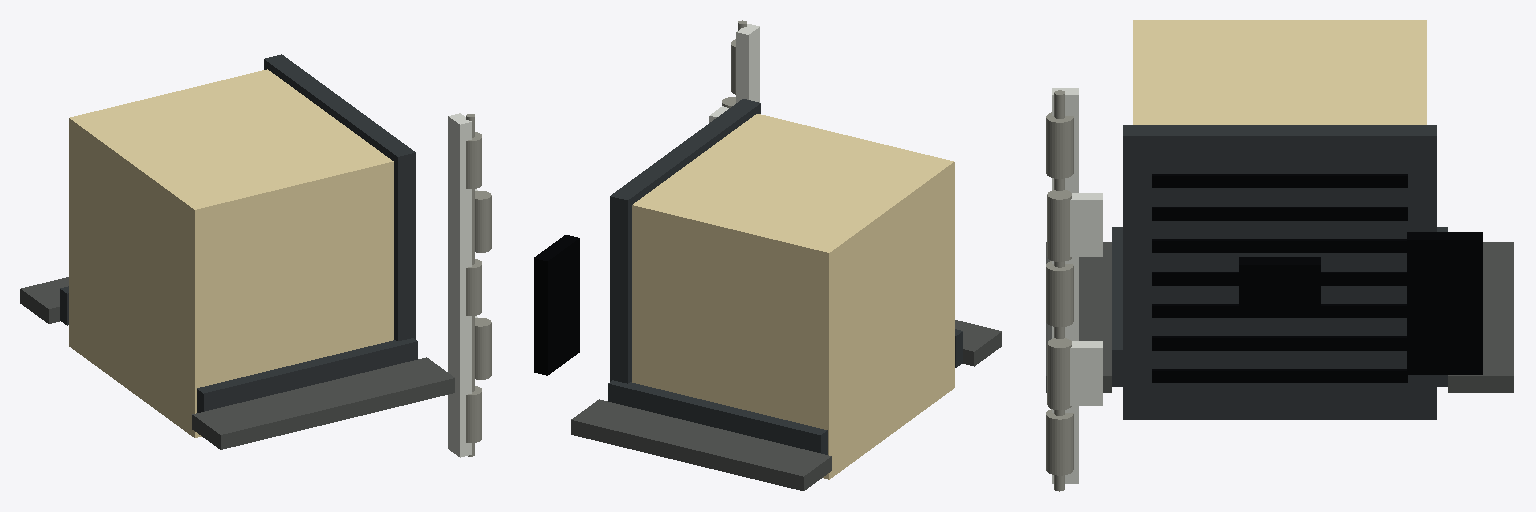
robot.urdf — desktop_cube_air_purifier:
<robot name="desktop_cube_air_purifier">
  <material name="warm_white_plastic">
    <color rgba="0.88 0.89 0.86 1" />
    </material>
  <material name="charcoal_shadow">
    <color rgba="0.05 0.055 0.06 1" />
    </material>
  <material name="pleated_filter_media">
    <color rgba="0.92 0.86 0.68 1" />
    </material>
  <material name="soft_gray_gasket">
    <color rgba="0.25 0.27 0.28 1" />
    </material>
  <material name="matte_gray_rails">
    <color rgba="0.36 0.37 0.36 1" />
    </material>
  <material name="brushed_hinge_pin">
    <color rgba="0.62 0.62 0.58 1" />
    </material>
  <link name="housing">
    <visual name="housing_shell">
      <geometry>
        <mesh filename="assets/meshes/hollow_cube_housing.obj" />
        </geometry>
      <material name="warm_white_plastic">
        <color rgba="0.88 0.89 0.86 1" />
        </material>
      </visual>
    <visual name="front_grille">
      <origin xyz="0 -0.164 0.195" rpy="1.5708 0 0" />
      <geometry>
        <mesh filename="assets/meshes/front_louvered_grille.obj" />
        </geometry>
      <material name="warm_white_plastic">
        <color rgba="0.88 0.89 0.86 1" />
        </material>
      </visual>
    <visual name="guide_rail_0">
      <origin xyz="0.04 -0.146 0.091" rpy="0 0 0" />
      <geometry>
        <box size="0.23 0.048 0.014" />
        </geometry>
      <material name="matte_gray_rails">
        <color rgba="0.36 0.37 0.36 1" />
        </material>
      </visual>
    <visual name="guide_rail_1">
      <origin xyz="0.04 0.146 0.091" rpy="0 0 0" />
      <geometry>
        <box size="0.23 0.048 0.014" />
        </geometry>
      <material name="matte_gray_rails">
        <color rgba="0.36 0.37 0.36 1" />
        </material>
      </visual>
    <visual name="hinge_knuckle_0">
      <origin xyz="0.176 -0.16 0.055" rpy="0 0 0" />
      <geometry>
        <cylinder radius="0.01" length="0.045" />
        </geometry>
      <material name="brushed_hinge_pin">
        <color rgba="0.62 0.62 0.58 1" />
        </material>
      </visual>
    <visual name="hinge_knuckle_1">
      <origin xyz="0.176 -0.16 0.174" rpy="0 0 0" />
      <geometry>
        <cylinder radius="0.01" length="0.045" />
        </geometry>
      <material name="brushed_hinge_pin">
        <color rgba="0.62 0.62 0.58 1" />
        </material>
      </visual>
    <visual name="hinge_knuckle_2">
      <origin xyz="0.176 -0.16 0.293" rpy="0 0 0" />
      <geometry>
        <cylinder radius="0.01" length="0.045" />
        </geometry>
      <material name="brushed_hinge_pin">
        <color rgba="0.62 0.62 0.58 1" />
        </material>
      </visual>
    <visual name="hinge_leaf">
      <origin xyz="0.168 -0.156 0.176" rpy="0 0 0" />
      <geometry>
        <box size="0.012 0.02 0.312" />
        </geometry>
      <material name="warm_white_plastic">
        <color rgba="0.88 0.89 0.86 1" />
        </material>
      </visual>
    <visual name="hinge_pin">
      <origin xyz="0.176 -0.16 0.176" rpy="0 0 0" />
      <geometry>
        <cylinder radius="0.004" length="0.318" />
        </geometry>
      <material name="brushed_hinge_pin">
        <color rgba="0.62 0.62 0.58 1" />
        </material>
      </visual>
    </link>
  <link name="filter_door">
    <visual name="door_panel">
      <origin xyz="0.011 0.15 0.146" rpy="0 1.5708 0" />
      <geometry>
        <mesh filename="assets/meshes/side_filter_door_panel.obj" />
        </geometry>
      <material name="warm_white_plastic">
        <color rgba="0.88 0.89 0.86 1" />
        </material>
      </visual>
    <visual name="pull_recess">
      <origin xyz="0.024 0.27 0.146" rpy="0 0 0" />
      <geometry>
        <box size="0.014 0.055 0.108" />
        </geometry>
      <material name="charcoal_shadow">
        <color rgba="0.05 0.055 0.06 1" />
        </material>
      </visual>
    <visual name="door_barrel_0">
      <origin xyz="0.012 -0.01 0.084" rpy="0 0 0" />
      <geometry>
        <cylinder radius="0.009" length="0.05" />
        </geometry>
      <material name="brushed_hinge_pin">
        <color rgba="0.62 0.62 0.58 1" />
        </material>
      </visual>
    <visual name="door_hinge_leaf_0">
      <origin xyz="0.011 0.006 0.084" rpy="0 0 0" />
      <geometry>
        <box size="0.012 0.03 0.046" />
        </geometry>
      <material name="warm_white_plastic">
        <color rgba="0.88 0.89 0.86 1" />
        </material>
      </visual>
    <visual name="door_barrel_1">
      <origin xyz="0.012 -0.01 0.203" rpy="0 0 0" />
      <geometry>
        <cylinder radius="0.009" length="0.05" />
        </geometry>
      <material name="brushed_hinge_pin">
        <color rgba="0.62 0.62 0.58 1" />
        </material>
      </visual>
    <visual name="door_hinge_leaf_1">
      <origin xyz="0.011 0.006 0.203" rpy="0 0 0" />
      <geometry>
        <box size="0.012 0.03 0.046" />
        </geometry>
      <material name="warm_white_plastic">
        <color rgba="0.88 0.89 0.86 1" />
        </material>
      </visual>
    </link>
  <link name="hepa_filter">
    <visual name="filter_media">
      <origin xyz="-0.105 0 0" rpy="0 0 0" />
      <geometry>
        <box size="0.21 0.214 0.214" />
        </geometry>
      <material name="pleated_filter_media">
        <color rgba="0.92 0.86 0.68 1" />
        </material>
      </visual>
    <visual name="front_gasket">
      <origin xyz="-0.006 0 0" rpy="0 0 0" />
      <geometry>
        <box size="0.018 0.228 0.228" />
        </geometry>
      <material name="soft_gray_gasket">
        <color rgba="0.25 0.27 0.28 1" />
        </material>
      </visual>
    <visual name="rail_shoe_0">
      <origin xyz="-0.105 -0.116 -0.074" rpy="0 0 0" />
      <geometry>
        <box size="0.21 0.012 0.03" />
        </geometry>
      <material name="soft_gray_gasket">
        <color rgba="0.25 0.27 0.28 1" />
        </material>
      </visual>
    <visual name="rail_shoe_1">
      <origin xyz="-0.105 0.116 -0.074" rpy="0 0 0" />
      <geometry>
        <box size="0.21 0.012 0.03" />
        </geometry>
      <material name="soft_gray_gasket">
        <color rgba="0.25 0.27 0.28 1" />
        </material>
      </visual>
    <visual name="pleat_edge_0">
      <origin xyz="0.004 0 -0.078" rpy="0 0 0" />
      <geometry>
        <box size="0.004 0.186 0.01" />
        </geometry>
      <material name="charcoal_shadow">
        <color rgba="0.05 0.055 0.06 1" />
        </material>
      </visual>
    <visual name="pleat_edge_1">
      <origin xyz="0.004 0 -0.052" rpy="0 0 0" />
      <geometry>
        <box size="0.004 0.186 0.01" />
        </geometry>
      <material name="charcoal_shadow">
        <color rgba="0.05 0.055 0.06 1" />
        </material>
      </visual>
    <visual name="pleat_edge_2">
      <origin xyz="0.004 0 -0.026" rpy="0 0 0" />
      <geometry>
        <box size="0.004 0.186 0.01" />
        </geometry>
      <material name="charcoal_shadow">
        <color rgba="0.05 0.055 0.06 1" />
        </material>
      </visual>
    <visual name="pleat_edge_3">
      <origin xyz="0.004 0 0" rpy="0 0 0" />
      <geometry>
        <box size="0.004 0.186 0.01" />
        </geometry>
      <material name="charcoal_shadow">
        <color rgba="0.05 0.055 0.06 1" />
        </material>
      </visual>
    <visual name="pleat_edge_4">
      <origin xyz="0.004 0 0.026" rpy="0 0 0" />
      <geometry>
        <box size="0.004 0.186 0.01" />
        </geometry>
      <material name="charcoal_shadow">
        <color rgba="0.05 0.055 0.06 1" />
        </material>
      </visual>
    <visual name="pleat_edge_5">
      <origin xyz="0.004 0 0.052" rpy="0 0 0" />
      <geometry>
        <box size="0.004 0.186 0.01" />
        </geometry>
      <material name="charcoal_shadow">
        <color rgba="0.05 0.055 0.06 1" />
        </material>
      </visual>
    <visual name="pleat_edge_6">
      <origin xyz="0.004 0 0.078" rpy="0 0 0" />
      <geometry>
        <box size="0.004 0.186 0.01" />
        </geometry>
      <material name="charcoal_shadow">
        <color rgba="0.05 0.055 0.06 1" />
        </material>
      </visual>
    <visual name="pull_tab">
      <origin xyz="0.01 0 0" rpy="0 0 0" />
      <geometry>
        <box size="0.014 0.06 0.034" />
        </geometry>
      <material name="charcoal_shadow">
        <color rgba="0.05 0.055 0.06 1" />
        </material>
      </visual>
    </link>
  <joint name="housing_to_filter_door" type="revolute">
    <origin xyz="0.174 -0.15 0.03" rpy="0 0 0" />
    <parent link="housing" />
    <child link="filter_door" />
    <axis xyz="0 0 -1" />
    <limit effort="3" velocity="2" lower="0" upper="1.75" />
    </joint>
  <joint name="housing_to_hepa_filter" type="prismatic">
    <origin xyz="0.146 0 0.174" rpy="0 0 0" />
    <parent link="housing" />
    <child link="hepa_filter" />
    <axis xyz="1 0 0" />
    <limit effort="20" velocity="0.18" lower="0" upper="0.16" />
    </joint>
  </robot>

--- Facts derived from the render (not from the file) ---
Views: 3 orthographic renders of the robot side by side, from view 1: azimuth 30°, elevation 25°; view 2: azimuth 150°, elevation 25°; view 3: azimuth 270°, elevation 25°.
Robot: desktop_cube_air_purifier — 3 links, 2 joints (1 revolute, 1 prismatic); root link housing; default pose: every joint at zero.
Visible links, largest first — view 1: hepa_filter, housing, filter_door; view 2: hepa_filter, housing, filter_door; view 3: hepa_filter, filter_door, housing.
Link boxes in pixels (x1,y1,x2,y2): hepa_filter: [60, 54, 417, 437]; housing: [20, 113, 481, 457]; filter_door: [475, 189, 491, 379]; hepa_filter: [608, 99, 962, 479]; housing: [571, 20, 1001, 490]; filter_door: [534, 97, 735, 375]; hepa_filter: [1112, 20, 1447, 419]; filter_door: [1047, 190, 1482, 409]; housing: [1046, 88, 1513, 491].
Bounding box of the posed robot: 0.28 × 0.34 × 0.318 m (x, y, z).
0 mesh visuals loaded from 3 distinct referenced files (none loaded); not drawn: 3 (reference not matched to a file when rendering).
